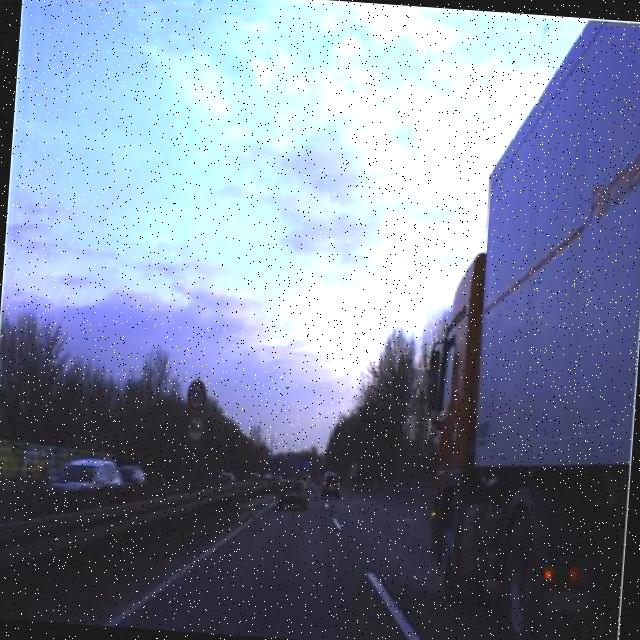Ograniczenie predkosci do 120: (183, 376, 210, 415)
Zakaz wyprzedzania: (182, 412, 210, 446)
